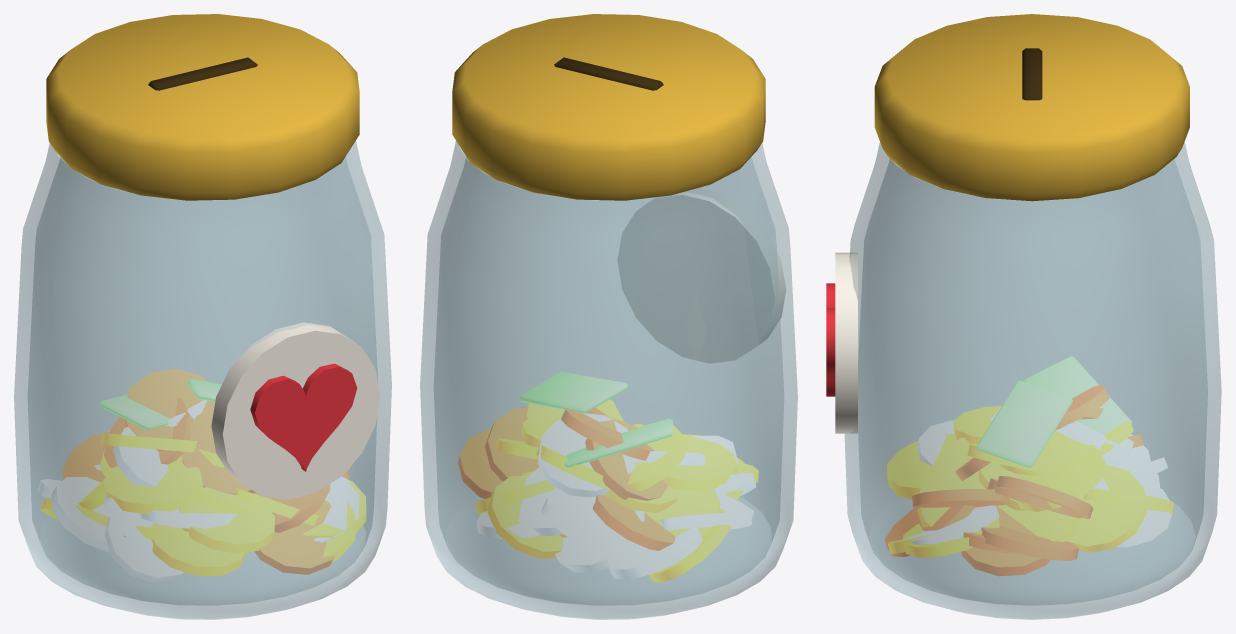
The model's file is truck_tip_jar.glb.
The picture shows the model from 3 angles, left to right: view 1: azimuth 30°, elevation 25°; view 2: azimuth 150°, elevation 25°; view 3: azimuth 270°, elevation 25°; orthographic projection.
Parts seen in each view (by area): view 1: TruckTipJar; view 2: TruckTipJar; view 3: TruckTipJar.
Part boxes in pixels (x1,y1,x2,y2): TruckTipJar: (14, 14, 391, 619); TruckTipJar: (420, 14, 797, 619); TruckTipJar: (826, 14, 1221, 619).
Bounding box in the file's own units: 2.5 × 3.53 × 2.61.
